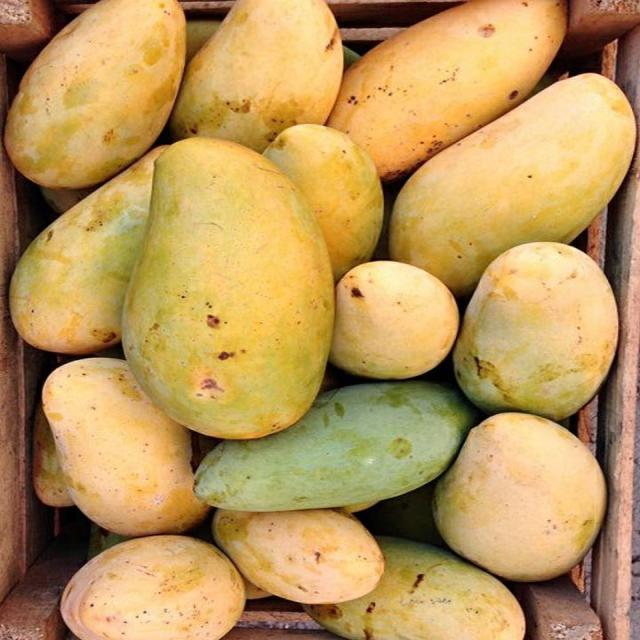mango: (123, 137, 333, 438), (391, 74, 635, 297), (328, 0, 566, 180), (196, 381, 477, 511), (5, 0, 184, 188), (10, 147, 164, 353), (43, 358, 207, 535), (434, 414, 606, 581), (454, 243, 617, 419), (170, 0, 343, 151), (305, 537, 524, 639), (61, 536, 245, 639), (264, 124, 383, 280), (213, 510, 383, 603), (330, 261, 458, 379), (359, 482, 444, 546), (33, 404, 73, 507), (186, 19, 221, 63), (88, 523, 130, 559), (88, 524, 130, 559), (40, 188, 94, 215), (243, 576, 271, 599), (342, 501, 378, 513), (343, 46, 361, 69)
